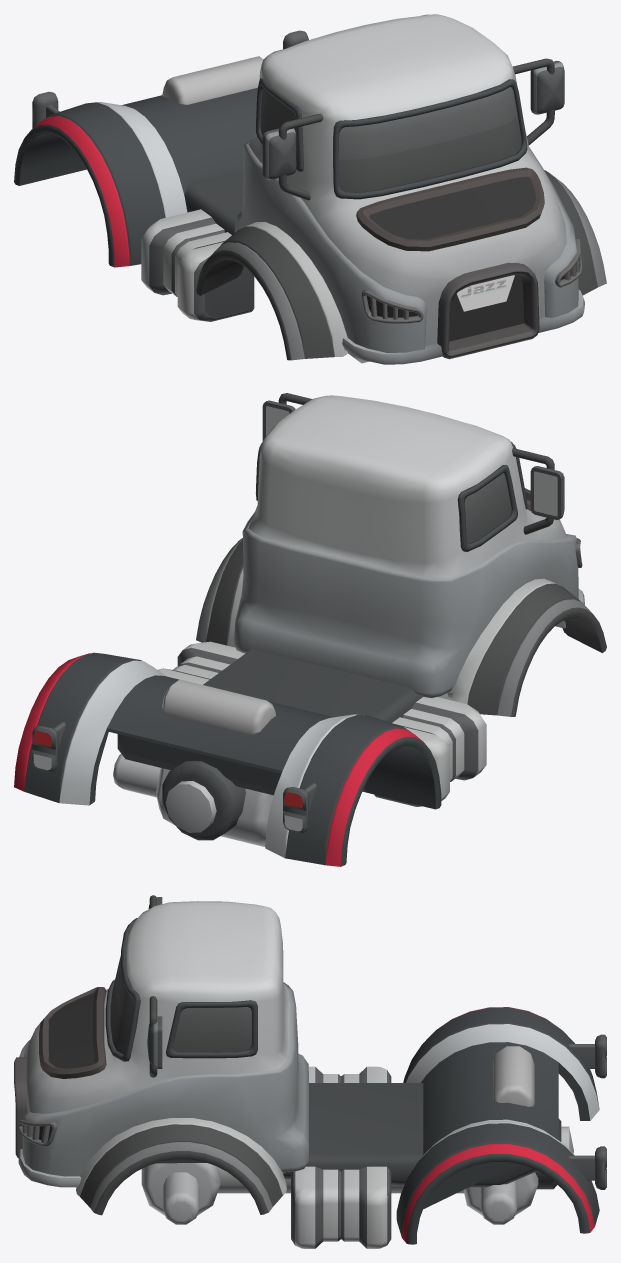
The model's file is Car_13.fbx.
3 views of the same model, one above another, from view 1: azimuth 30°, elevation 25°; view 2: azimuth 150°, elevation 25°; view 3: azimuth 270°, elevation 25° (orthographic). The views are drawn at different scales.
Visible parts, largest first — view 1: Car_13; view 2: Car_13; view 3: Car_13.
Part boxes in pixels (x1,y1,x2,y2): Car_13: (14,14,606,364); Car_13: (14,393,606,866); Car_13: (14,895,606,1248).
Size of the model in its own units: 225 by 384 by 186.
